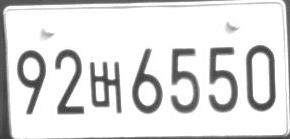0: (245, 44, 276, 111)
2: (54, 48, 84, 115)
5: (208, 46, 238, 113), (170, 47, 200, 113)
6: (131, 48, 163, 114)
9: (16, 49, 46, 114)
버: (89, 61, 122, 113)
